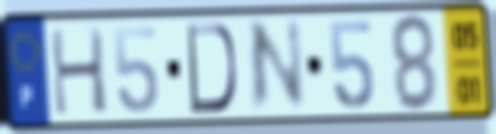5: (327, 16, 377, 112), (111, 23, 161, 116)
8: (387, 11, 441, 116)
D: (184, 21, 240, 117)
H: (46, 24, 111, 118)
N: (247, 16, 309, 118)
